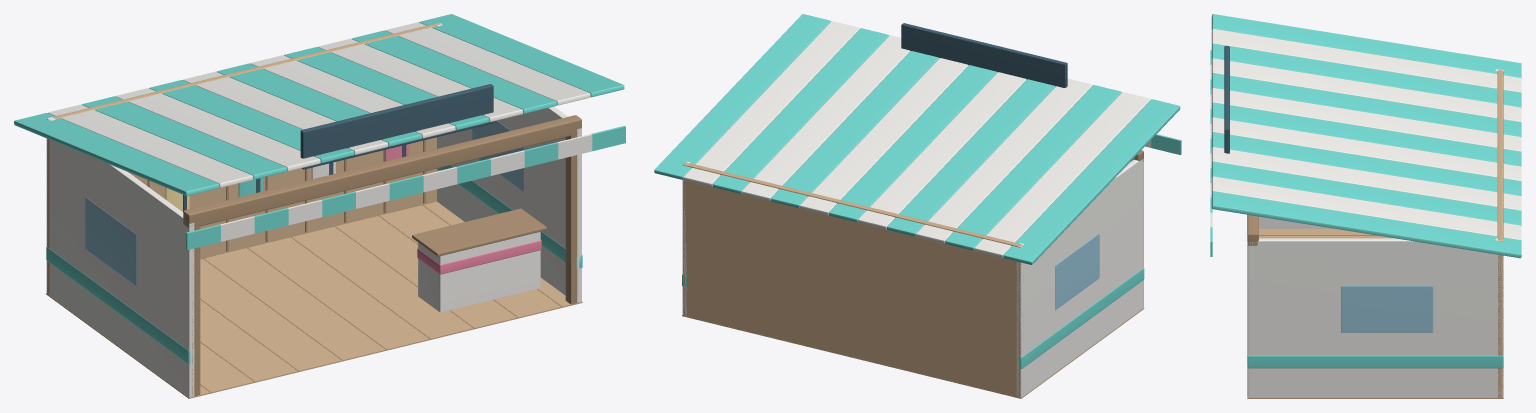
File: GearShack.fbx
The picture shows the model from 3 angles, left to right: view 1: azimuth 30°, elevation 25°; view 2: azimuth 150°, elevation 25°; view 3: azimuth 270°, elevation 25°; orthographic projection. The views are drawn at different scales.
Parts seen in each view (by area): view 1: GearShack; view 2: GearShack; view 3: GearShack.
Boxes of the visible parts, x1,y1,x2,y2 form: GearShack: (14, 14, 625, 398); GearShack: (654, 14, 1181, 398); GearShack: (1210, 14, 1521, 398).
Size of the model in its own units: 7.8 by 4.28 by 5.35.
